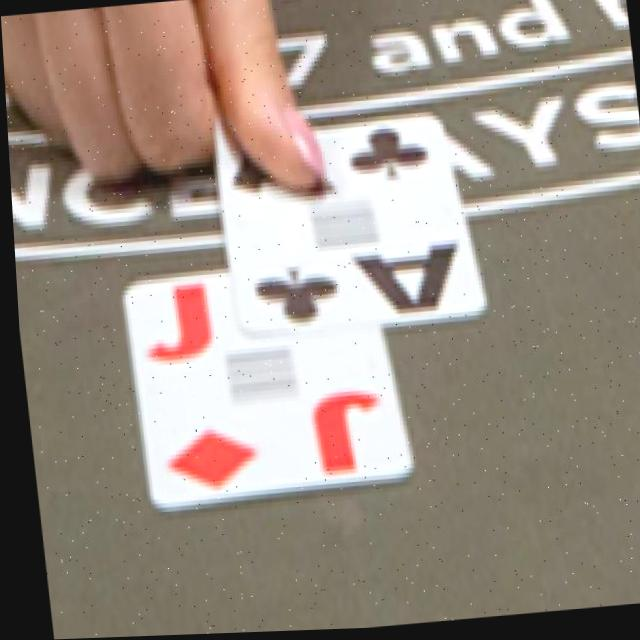Card-A: (212, 117, 483, 334)
Card-J: (121, 275, 407, 504)
